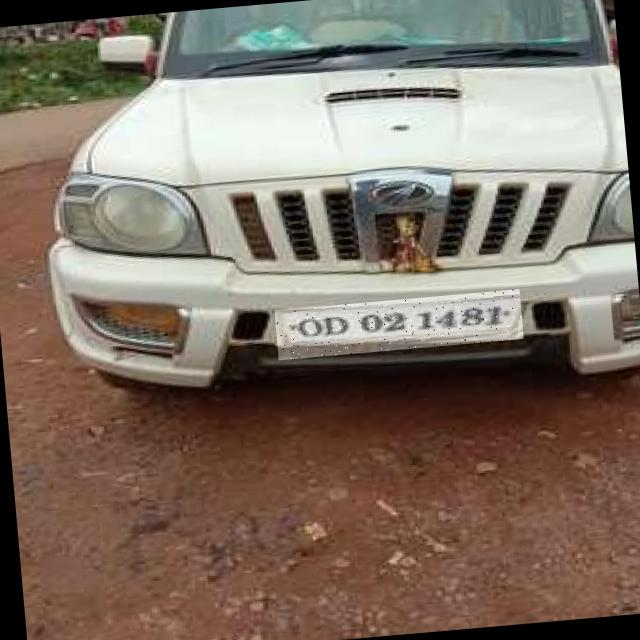Plate: (275, 290, 524, 361)
